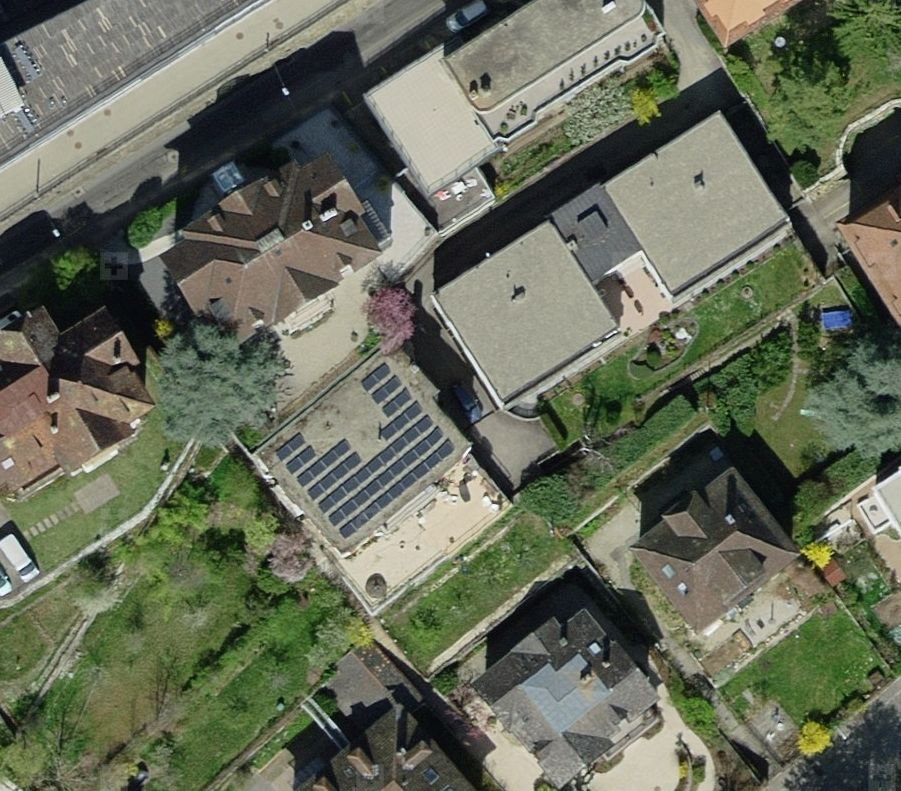solar: (273, 363, 453, 538)
